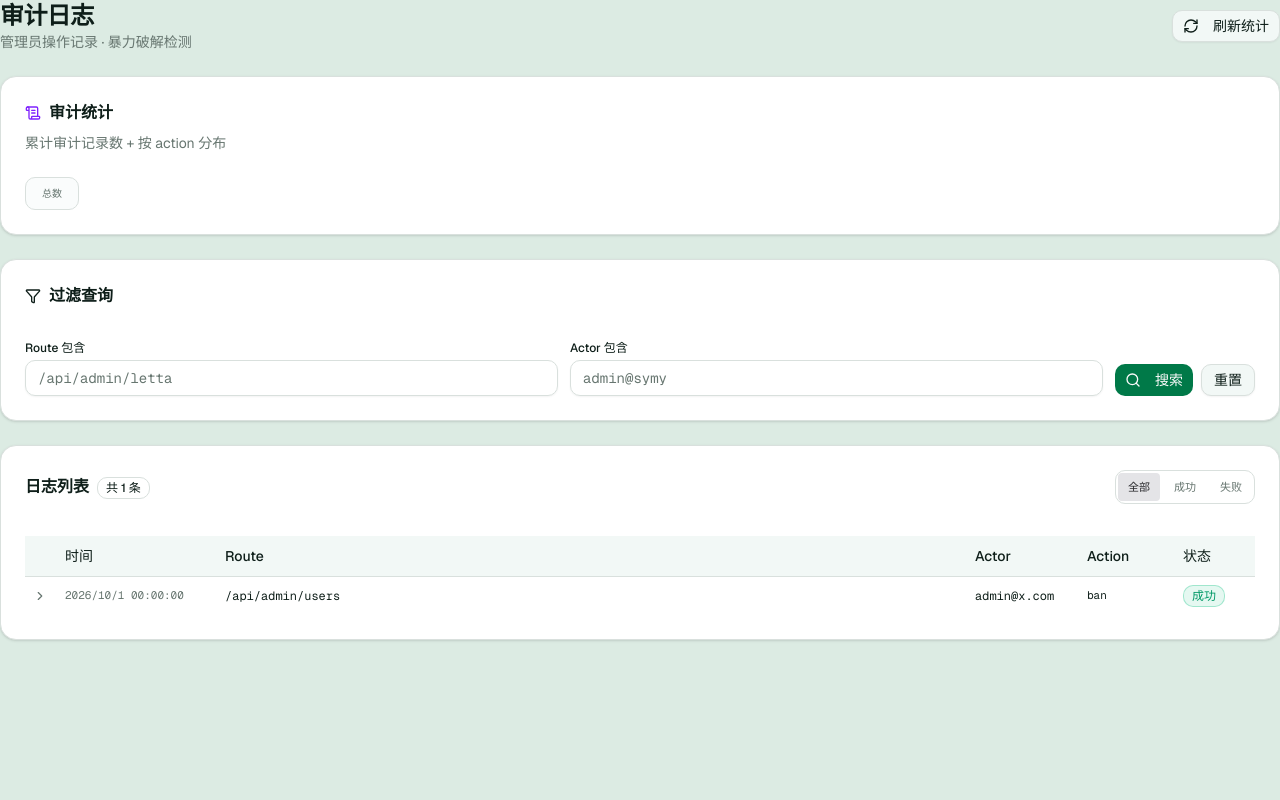
Scenario: AdminAuditPage › 行点击 → 展开 payload JSON (route/actor/success/metadata)
Click the text "/api/admin/users" at (283, 596), box [217,576,967,614]
(page scrolled)
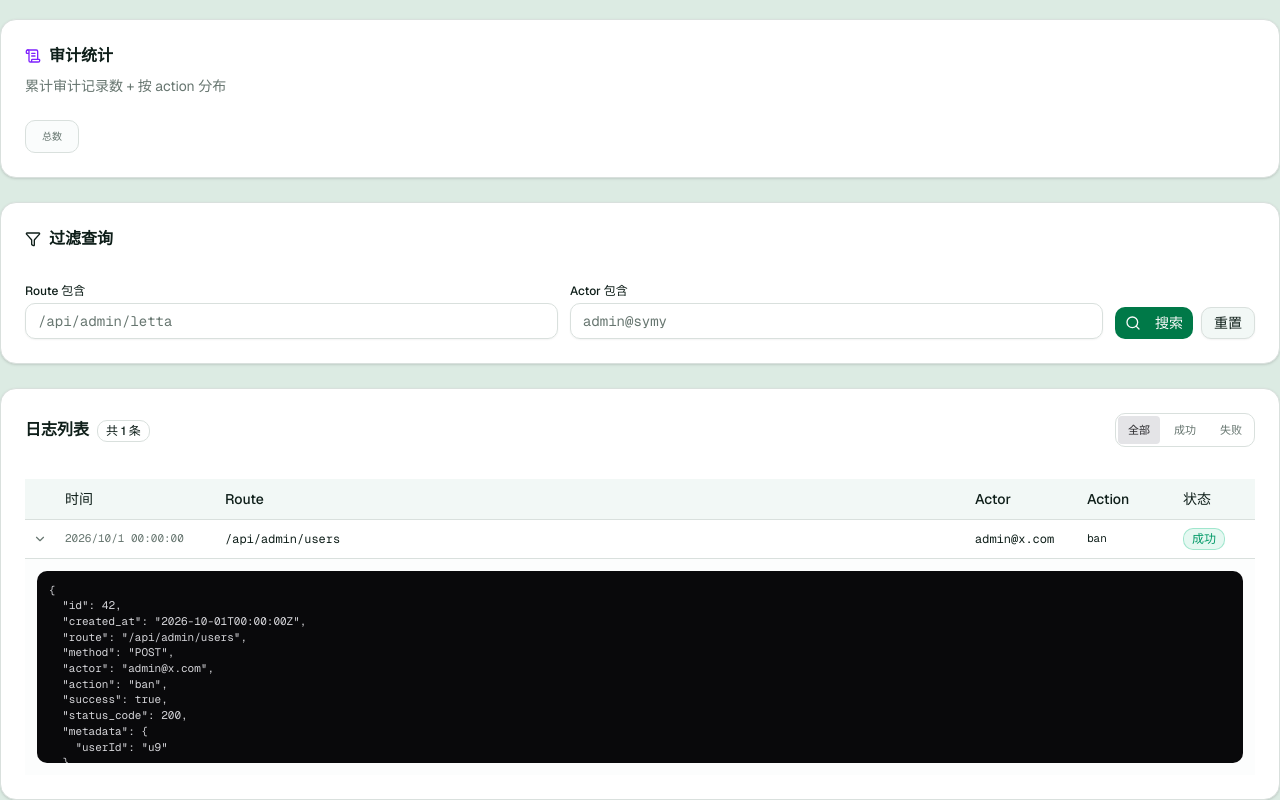
Expected: the text "\"userId\": \"u9\"" is shown, [49,582,306,774]
Expected: the text "\"method\": \"POST\"" is shown, [49,582,306,774]
